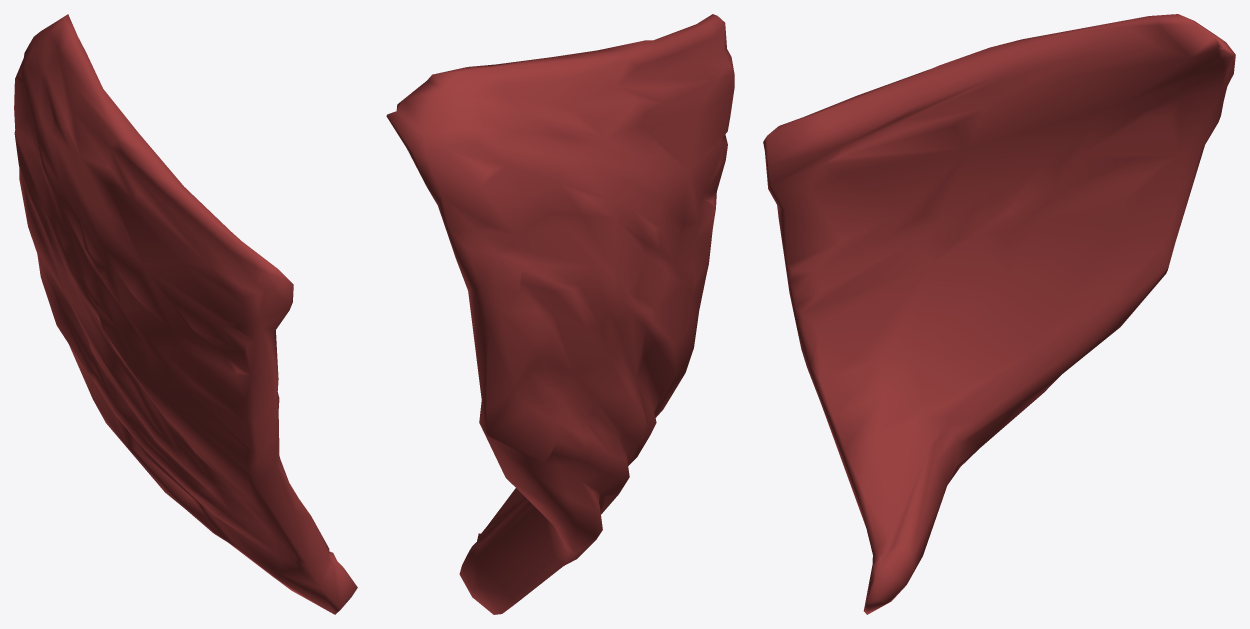
Rendered from bucinator-r.glb.
The picture shows the model from 3 angles, left to right: view 1: azimuth 30°, elevation 25°; view 2: azimuth 150°, elevation 25°; view 3: azimuth 270°, elevation 25°; orthographic projection. The views are drawn at different scales.
Parts seen in each view (by area): view 1: Bucinator.r; view 2: Bucinator.r; view 3: Bucinator.r.
Boxes of the visible parts, x1,y1,x2,y2 form: Bucinator.r: [14, 14, 357, 614]; Bucinator.r: [386, 14, 734, 614]; Bucinator.r: [763, 14, 1235, 614].
Size of the model in its own units: 0.015 by 0.0363 by 0.0289.
